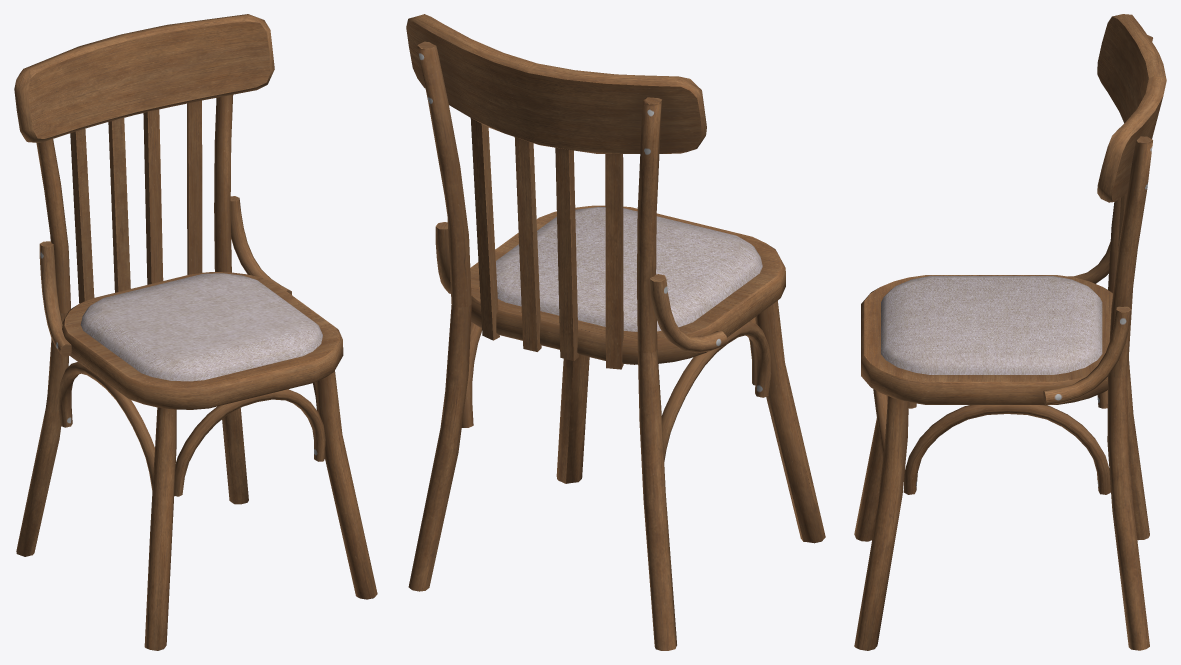
The model's file is old_wooden_chair.glb.
3 renders of one model, left to right at view 1: azimuth 30°, elevation 25°; view 2: azimuth 150°, elevation 25°; view 3: azimuth 270°, elevation 25°, orthographic. The views are drawn at different scales.
Visible parts, largest first — view 1: Chair; view 2: Chair; view 3: Chair.
Boxes of the visible parts, box(x1,y1,x2,y2) form: Chair: box(14, 14, 377, 650); Chair: box(406, 14, 825, 650); Chair: box(854, 14, 1166, 650).
Bounding box in the file's own units: 0.5631 × 1.04 × 0.5641.
Materials: 1 (1 with a texture image).
